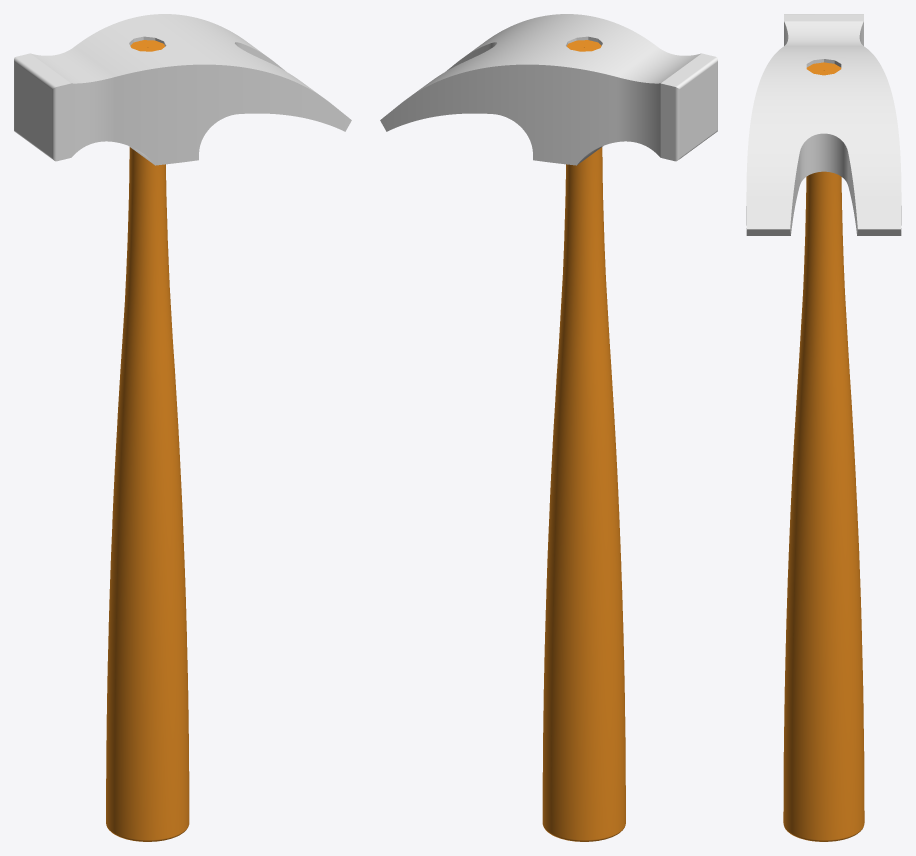
The model's file is hammer.glb.
3 renders of one model, left to right at view 1: azimuth 30°, elevation 25°; view 2: azimuth 150°, elevation 25°; view 3: azimuth 270°, elevation 25°, orthographic. The views are drawn at different scales.
Size of the model in its own units: 0.122 by 0.3267 by 0.0604.
